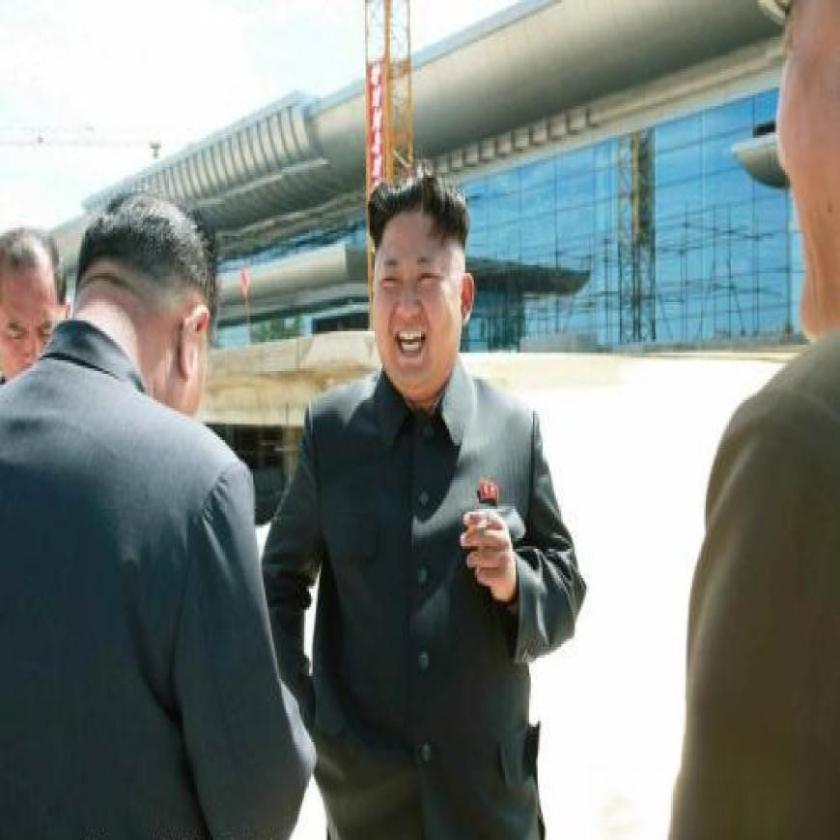Sin_casco: (360, 138, 501, 412), (77, 195, 248, 388), (0, 218, 62, 378)
